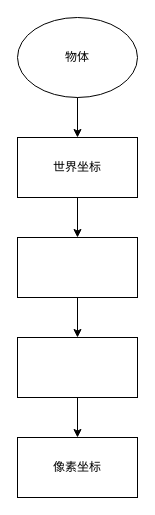
This 155x515 diagram has some shape labels left out. Here are the shapes that lost their labels. From the top down, the centre of each, then its label:
At (x=77, y=267): "相机坐标".
At (x=77, y=367): "图形坐标".
